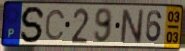2: (71, 6, 91, 45)
6: (146, 10, 163, 44)
9: (92, 7, 115, 45)
C: (44, 8, 67, 42)
N: (120, 7, 145, 45)
S: (20, 5, 47, 44)
